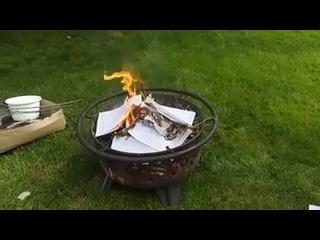Fire: (110, 62, 157, 138)
